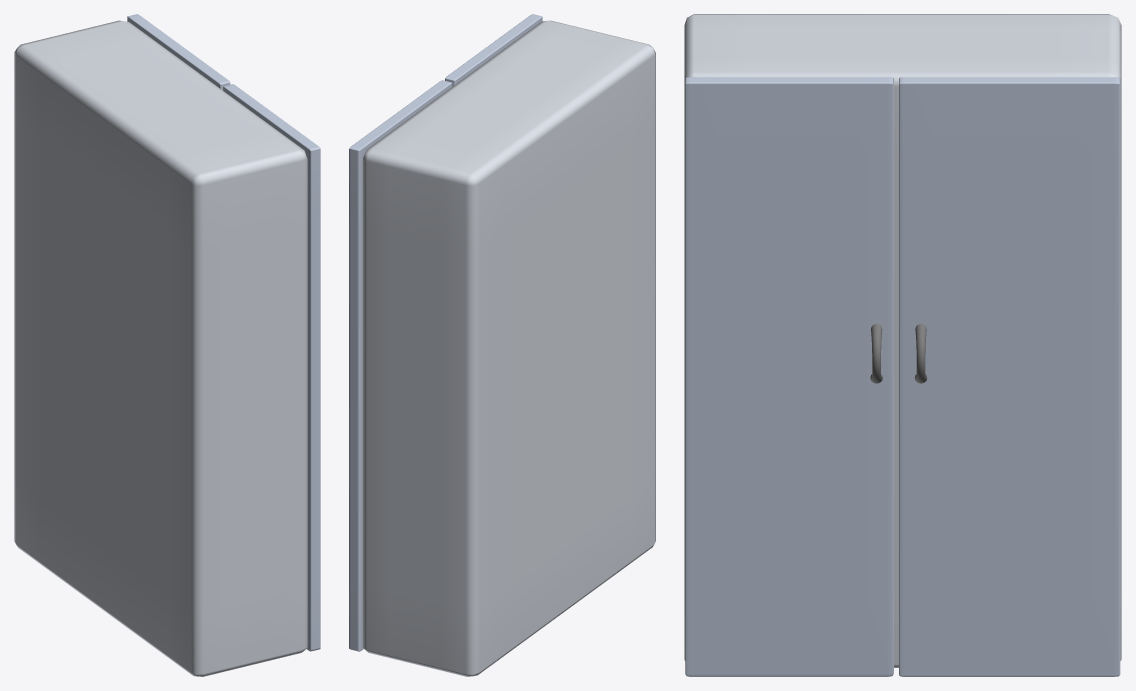
File: schrank.fbx
The picture shows the model from 3 angles, left to right: view 1: azimuth 30°, elevation 25°; view 2: azimuth 150°, elevation 25°; view 3: azimuth 270°, elevation 25°; orthographic projection. The views are drawn at different scales.
Parts seen in each view (by area): view 1: pCube4; view 2: pCube4; view 3: pCube4.
Boxes of the visible parts, <box> form: pCube4: <box>14,14,320,676</box>; pCube4: <box>349,14,655,676</box>; pCube4: <box>684,14,1121,676</box>.
Size of the model in its own units: 1.83 by 6 by 4.
